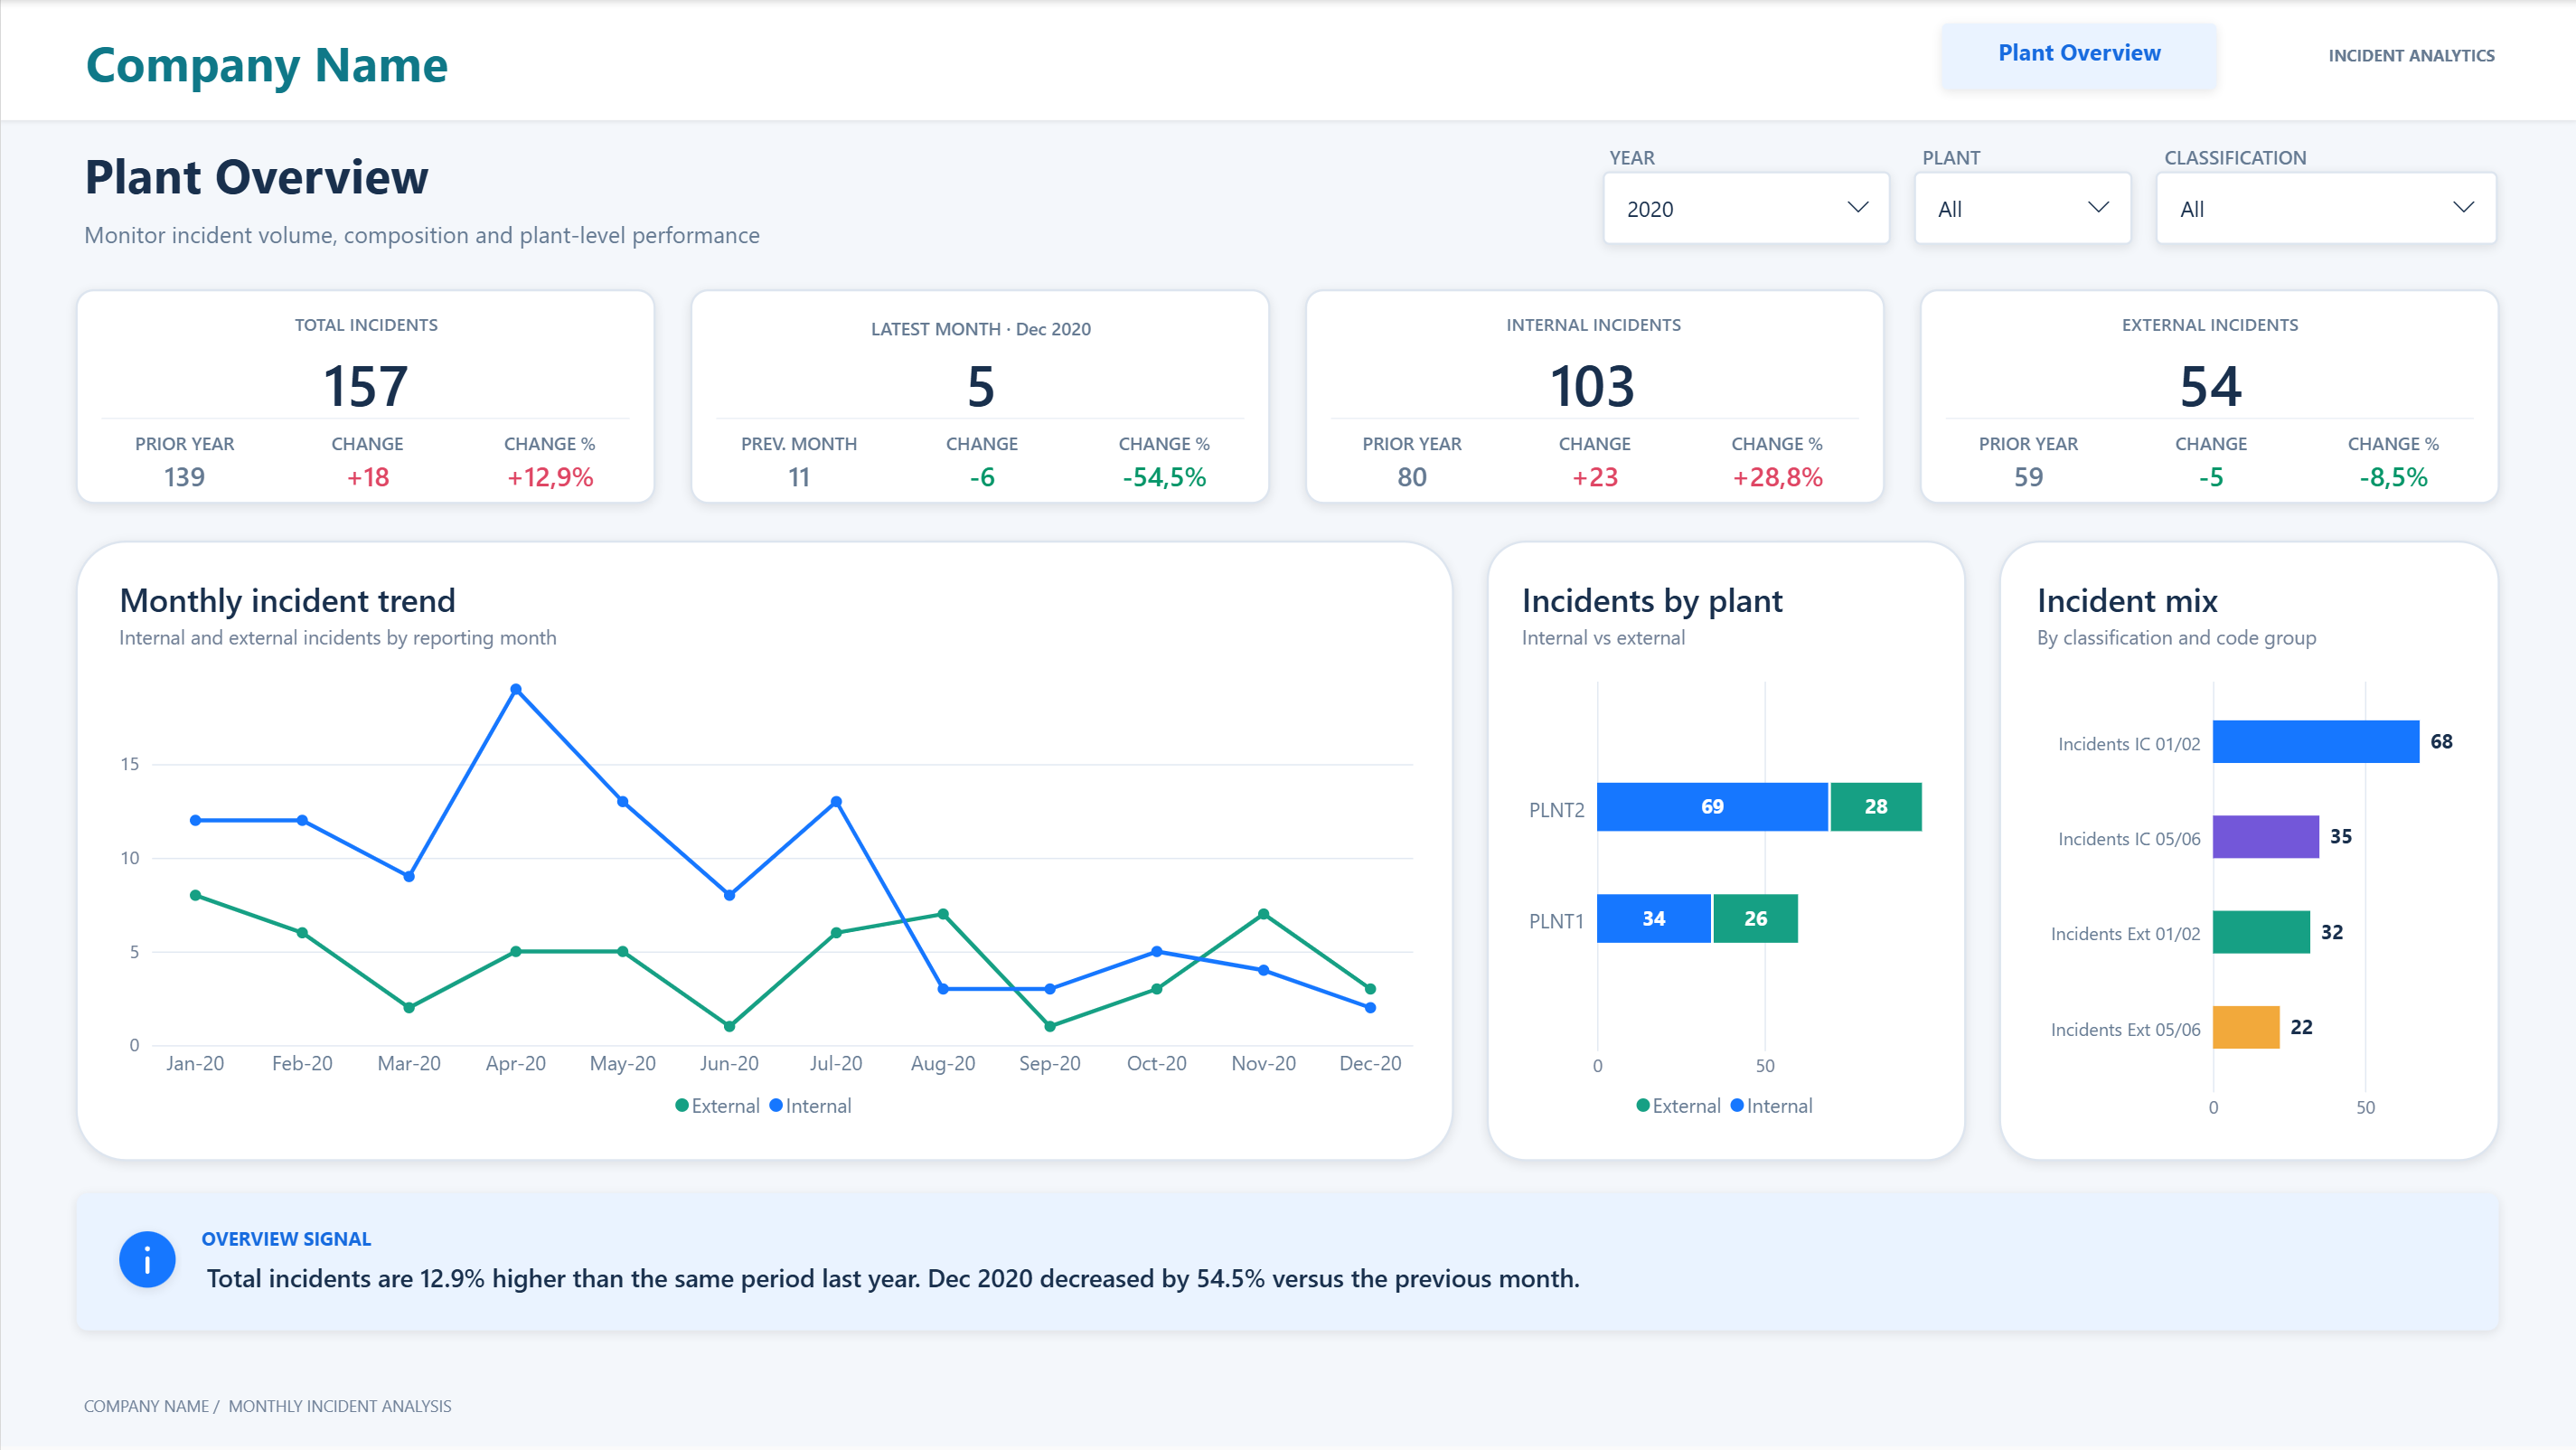

This screenshot's page, from the dashboard's own definition file:
{"tool":"powerbi","page":{"name":"Plant Overview","canvas":[1920,1080],"ordinal":0},"visuals":[{"type":"actionButton","title":"Plant Overview","box":[1450.3,21.5,202,40.4],"z":0,"group":"g3"},{"type":"textbox","box":[1199,108,209,28],"z":0,"group":"g7"},{"type":"slicer","title":"Plant","fields":{"Values":["dim_plant.plant_code"]},"box":[1426.1,133.3,161.6,63.3],"z":0,"group":"g4"},{"type":"textbox","box":[72,232,402,25],"z":0,"group":"g1"},{"type":"cardVisual","fields":{"Data":["MeasureTable.total_incidents"]},"box":[1445,257,402,54],"z":0,"group":"g8"},{"type":"cardVisual","fields":{"Data":["MeasureTable.total_incidents_py"]},"box":[1443,320,134,49],"z":0,"group":"g2"},{"type":"lineChart","title":"Monthly incident trend","fields":{"Category":["Calendar.Month Year"],"Series":["fact_monthly_incidents.classification"],"Y":["MeasureTable.total_incidents"]},"box":[78,420,984,428],"z":0,"group":"g6"},{"type":"textbox","box":[150,913,360,29],"z":0,"group":"g5"},{"type":"actionButton","title":"Incident Analytics","box":[1690,21.5,202,40.4],"z":1000,"group":"g3"},{"type":"textbox","box":[1612,108,248,28],"z":1000,"group":"g7"},{"type":"slicer","title":"Year","fields":{"Values":["Calendar.Year"]},"box":[1194.5,133.3,214.1,63.3],"z":1000,"group":"g4"},{"type":"group","id":"g1","title":"Group KPI Titles","box":[72,232,1775,25],"z":1000},{"type":"textbox","box":[987,232,402,25],"z":1000,"group":"g1"},{"type":"cardVisual","fields":{"Data":["MeasureTable.latest_month_incidents"]},"box":[530,257,402,54],"z":1000,"group":"g8"},{"type":"cardVisual","fields":{"Data":["MeasureTable.total_incidents_py"]},"box":[985,320,134,49],"z":1000,"group":"g2"},{"type":"barChart","title":"Incidents by plant","fields":{"Category":["dim_plant.plant_code"],"Series":["fact_monthly_incidents.classification"],"Y":["MeasureTable.total_incidents"]},"box":[1123,420,326,428],"z":1000,"group":"g6"},{"type":"cardVisual","title":"Signal Values","fields":{"Data":["MeasureTable.overview_signal"]},"box":[137.4,927.8,1629.4,47.1],"z":1000,"group":"g5"},{"type":"textbox","box":[1431,108,157,28],"z":2000,"group":"g7"},{"type":"slicer","title":"Classification","fields":{"Values":["fact_monthly_incidents.classification"]},"box":[1606.6,133.3,253.2,63.3],"z":2000,"group":"g4"},{"type":"textbox","box":[1445,232,402,25],"z":2000,"group":"g1"},{"type":"cardVisual","fields":{"Data":["MeasureTable.total_incidents"]},"box":[72,257,402,54],"z":2000,"group":"g8"},{"type":"group","id":"g2","title":"Group KPI Changes","box":[70,320,1779,49],"z":2000},{"type":"cardVisual","fields":{"Data":["MeasureTable.previous_month_incidents"]},"box":[528,320,134,49],"z":2000,"group":"g2"},{"type":"barChart","title":"Incident mix","fields":{"Category":["fact_monthly_incidents.source_category"],"Y":["MeasureTable.total_incidents"]},"box":[1507,420,338,428],"z":2000,"group":"g6"},{"type":"group","id":"g3","title":"Nav","box":[1450.3,21.5,441.7,40.4],"z":3000},{"type":"textbox","box":[64,22,300,60],"z":3000,"group":"g7"},{"type":"cardVisual","fields":{"Data":["MeasureTable.latest_month_label"]},"box":[530,232,402,25],"z":3000,"group":"g1"},{"type":"cardVisual","fields":{"Data":["MeasureTable.total_incidents"]},"box":[987,257,402,54],"z":3000,"group":"g8"},{"type":"cardVisual","fields":{"Data":["MeasureTable.total_incidents_py"]},"box":[70,320,134,49],"z":3000,"group":"g2"},{"type":"textbox","box":[1690,31,168,34],"z":4000,"group":"g7"},{"type":"group","id":"g4","title":"Slicers","box":[1194.5,133.3,665.2,63.3],"z":4000},{"type":"cardVisual","fields":{"Data":["MeasureTable.total_incidents_yoy_change"]},"box":[1579,320,134,49],"z":4000,"group":"g2"},{"type":"textbox","box":[62,163,1040,31],"z":5000,"group":"g7"},{"type":"cardVisual","fields":{"Data":["MeasureTable.total_incidents_yoy_change"]},"box":[1121,320,134,49],"z":5000,"group":"g2"},{"type":"group","id":"g5","title":"Overview Signal","box":[137.4,913,1629.4,62],"z":5000},{"type":"textbox","box":[62,106,770,60],"z":6000,"group":"g7"},{"type":"cardVisual","fields":{"Data":["MeasureTable.total_incidents_yoy_change"]},"box":[206,320,134,49],"z":6000,"group":"g2"},{"type":"group","id":"g6","title":"Visuals","box":[78,420,1767,428],"z":6000},{"type":"group","id":"g7","title":"Text Boxes","box":[62,22,1798,1048],"z":7000},{"type":"textbox","box":[1447,27,205,38],"z":7000,"group":"g7"},{"type":"cardVisual","fields":{"Data":["MeasureTable.latest_month_change"]},"box":[664,320,134,49],"z":7000,"group":"g2"},{"type":"group","id":"g8","title":"Group KPI Values","box":[72,257,1775,54],"z":7500},{"type":"cardVisual","fields":{"Data":["MeasureTable.total_incidents_yoy_pct"]},"box":[342,320,134,49],"z":8000,"group":"g2"},{"type":"textbox","box":[62,1038,1300,32],"z":8000,"group":"g7"},{"type":"cardVisual","fields":{"Data":["MeasureTable.total_incidents_yoy_pct"]},"box":[1257,320,134,49],"z":9000,"group":"g2"},{"type":"cardVisual","fields":{"Data":["MeasureTable.total_incidents_yoy_pct"]},"box":[1715,320,134,49],"z":10000,"group":"g2"},{"type":"cardVisual","fields":{"Data":["MeasureTable.latest_month_change_pct"]},"box":[800,320,134,49],"z":11000,"group":"g2"}]}

Visuals, with their boxes in screenshot pixels (x1, y1, x2, y2), scaled from the page's 1920x1080 canvas onto the 2576x1450 screenshot:
"Plant Overview" actionButton: 1946 29 2217 83
textbox: 1609 145 1889 183
"Plant" slicer: 1913 179 2130 264
textbox: 97 312 636 345
cardVisual - MeasureTable.total_incidents: 1939 345 2478 418
cardVisual - MeasureTable.total_incidents_py: 1936 429 2116 495
"Monthly incident trend" lineChart: 105 564 1424 1138
textbox: 202 1226 684 1265
"Incident Analytics" actionButton: 2268 29 2538 83
textbox: 2163 145 2496 183
"Year" slicer: 1603 179 1890 264
"Group KPI Titles" group: 97 312 2478 345
textbox: 1324 312 1864 345
cardVisual - MeasureTable.latest_month_incidents: 711 345 1250 418
cardVisual - MeasureTable.total_incidents_py: 1321 429 1501 495
"Incidents by plant" barChart: 1507 564 1944 1138
"Signal Values" cardVisual: 184 1246 2371 1309
textbox: 1920 145 2130 183
"Classification" slicer: 2156 179 2496 264
textbox: 1939 312 2478 345
cardVisual - MeasureTable.total_incidents: 97 345 636 418
"Group KPI Changes" group: 94 429 2481 495
cardVisual - MeasureTable.previous_month_incidents: 709 429 888 495
"Incident mix" barChart: 2022 564 2476 1138
"Nav" group: 1946 29 2538 83
textbox: 86 30 488 110
cardVisual - MeasureTable.latest_month_label: 711 312 1250 345
cardVisual - MeasureTable.total_incidents: 1324 345 1864 418
cardVisual - MeasureTable.total_incidents_py: 94 429 274 495
textbox: 2268 42 2493 88
"Slicers" group: 1603 179 2495 264
cardVisual - MeasureTable.total_incidents_yoy_change: 2119 429 2299 495
textbox: 83 219 1479 260
cardVisual - MeasureTable.total_incidents_yoy_change: 1504 429 1684 495
"Overview Signal" group: 184 1226 2371 1309
textbox: 83 142 1116 223
cardVisual - MeasureTable.total_incidents_yoy_change: 277 429 456 495
"Visuals" group: 105 564 2476 1138
"Text Boxes" group: 83 30 2496 1436
textbox: 1941 36 2216 88
cardVisual - MeasureTable.latest_month_change: 891 429 1071 495
"Group KPI Values" group: 97 345 2478 418
cardVisual - MeasureTable.total_incidents_yoy_pct: 459 429 639 495
textbox: 83 1394 1828 1436
cardVisual - MeasureTable.total_incidents_yoy_pct: 1687 429 1866 495
cardVisual - MeasureTable.total_incidents_yoy_pct: 2301 429 2481 495
cardVisual - MeasureTable.latest_month_change_pct: 1074 429 1253 495
